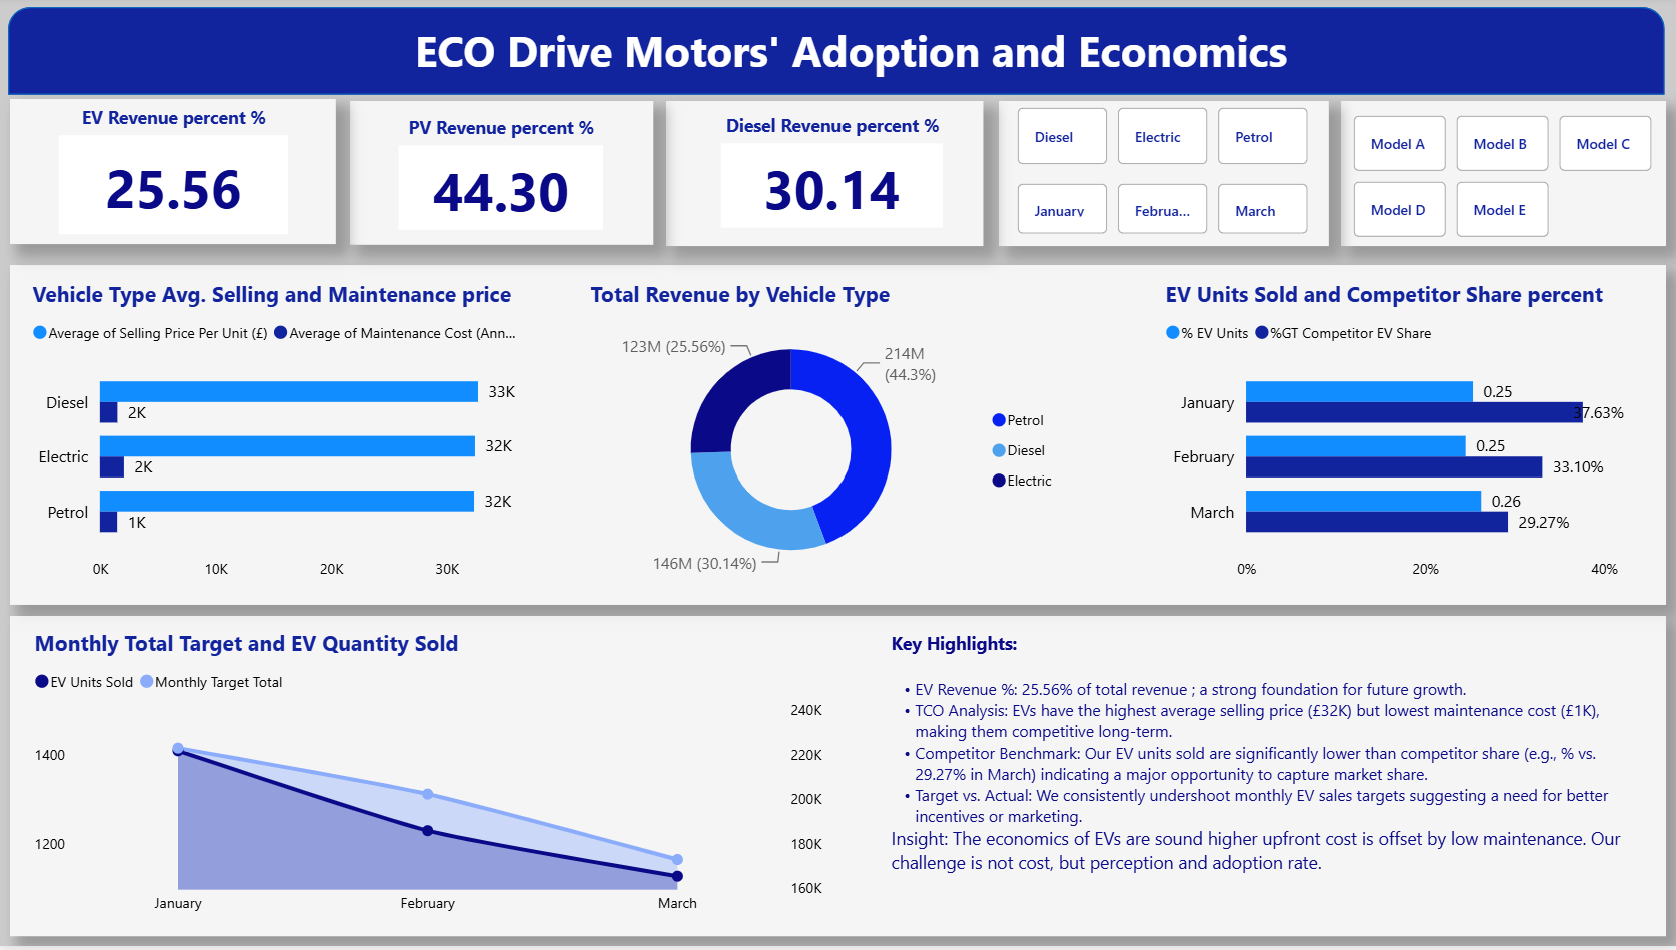

What the dashboard file says about the page in this screenshot:
{"tool":"powerbi","page":{"name":"EV Adoption and Economics","canvas":[1280,720],"ordinal":2},"visuals":[{"type":"shape","box":[1020,80,246.7,110],"z":0},{"type":"shape","box":[761.1,80,250,110],"z":1000},{"type":"shape","box":[12.2,204.1,1255.1,257.1],"z":2000},{"type":"shape","box":[12.2,470.4,1255.1,242.9],"z":3000},{"type":"clusteredBarChart","title":"Vehicle Type Avg. Selling and Maintenance price","fields":{"Y":["Avg(Order Details.Selling Price Per Unit (£))","Avg(Products.Maintenance Cost (Annual))"],"Category":["Products.Vehicle Type"]},"box":[24.5,215.3,384.7,236.7],"z":4000},{"type":"areaChart","title":"Monthly Total Target and EV Quantity Sold","fields":{"Category":["Order Details.Date of Sale.Variation.Date Hierarchy.Month"],"Y":["Customer Table.EV Units Sold"],"Y2":["Customer Table.Monthly Target Total"]},"box":[25.5,479.6,607.1,225.5],"z":5000},{"type":"clusteredBarChart","title":"EV Units Sold and Competitor Share percent ","fields":{"Category":["Order Details.Date of Sale.Variation.Date Hierarchy.Month"],"Y":["Customer Table.% EV Units","Divide(Customer Table.Avg Competitor EV Share, ScopedEval(Customer Table.Avg Competitor EV Share, []))"]},"box":[882.7,215.3,368.4,236.7],"z":6000},{"type":"shape","box":[11.1,8.9,1255.6,66.7],"z":7000},{"type":"textbox","box":[295.6,15.6,707.8,53.3],"z":8000},{"type":"donutChart","fields":{"Y":["Customer Table.Total Revenue"],"Category":["Products.Vehicle Type"]},"box":[448,215.3,368.4,236.7],"z":9000},{"type":"advancedSlicerVisual","fields":{"Values":["Order Details.Date of Sale.Variation.Date Hierarchy.Month"]},"box":[771.1,137.8,231.1,48.9],"z":10000},{"type":"advancedSlicerVisual","fields":{"Values":["Order Details.Model Name"]},"box":[1024.5,85.7,238.8,103.1],"z":11000},{"type":"advancedSlicerVisual","fields":{"Values":["Order Details.Vehicle Type"]},"box":[771.1,81.1,232.2,53.3],"z":12000},{"type":"shape","box":[510,80,240,110],"z":13000},{"type":"shape","box":[270,81.1,230,108.9],"z":14000},{"type":"shape","box":[12.2,79.6,246.9,110.2],"z":15000},{"type":"cardVisual","title":"EV Revenue percent %","fields":{"Data":["Customer Table.EV Revenue %"]},"box":[43.3,83.3,184.4,103.3],"z":16000},{"type":"cardVisual","title":"PV Revenue percent %","fields":{"Data":["Customer Table.PV Revenue %"]},"box":[302.2,91.1,165.6,92.2],"z":17000},{"type":"cardVisual","title":"Diesel Revenue percent %","fields":{"Data":["Customer Table.DV Revenue %"]},"box":[545.6,88.9,178.9,92.2],"z":18000},{"type":"textbox","box":[674.5,476.5,583.7,231.6],"z":19000}]}

Visuals, with their boxes in screenshot pixels (x1, y1, x2, y2), scaled from the page's 1280x720 canvas onto the 1676x950 screenshot:
shape: bbox=(1336, 106, 1659, 251)
shape: bbox=(997, 106, 1324, 251)
shape: bbox=(16, 269, 1659, 609)
shape: bbox=(16, 621, 1659, 941)
"Vehicle Type Avg. Selling and Maintenance price" clusteredBarChart: bbox=(32, 284, 536, 596)
"Monthly Total Target and EV Quantity Sold" areaChart: bbox=(33, 633, 828, 930)
"EV Units Sold and Competitor Share percent " clusteredBarChart: bbox=(1156, 284, 1638, 596)
shape: bbox=(15, 12, 1659, 100)
textbox: bbox=(387, 21, 1314, 91)
donutChart - Customer Table.Total Revenue x Products.Vehicle Type: bbox=(587, 284, 1069, 596)
advancedSlicerVisual - Order Details.Date of Sale.Variation.Date Hierarchy.Month: bbox=(1010, 182, 1312, 246)
advancedSlicerVisual - Order Details.Model Name: bbox=(1341, 113, 1654, 249)
advancedSlicerVisual - Order Details.Vehicle Type: bbox=(1010, 107, 1314, 177)
shape: bbox=(668, 106, 982, 251)
shape: bbox=(354, 107, 655, 251)
shape: bbox=(16, 105, 339, 250)
"EV Revenue percent %" cardVisual: bbox=(57, 110, 298, 246)
"PV Revenue percent %" cardVisual: bbox=(396, 120, 613, 242)
"Diesel Revenue percent %" cardVisual: bbox=(714, 117, 949, 239)
textbox: bbox=(883, 629, 1647, 934)
